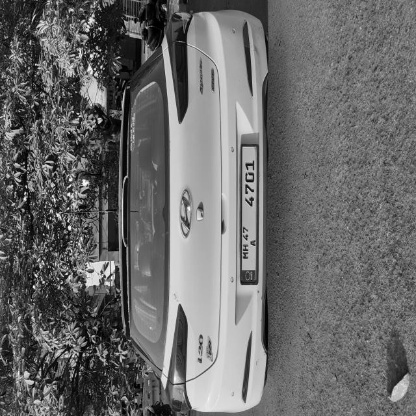car: (1, 252, 198, 416)
